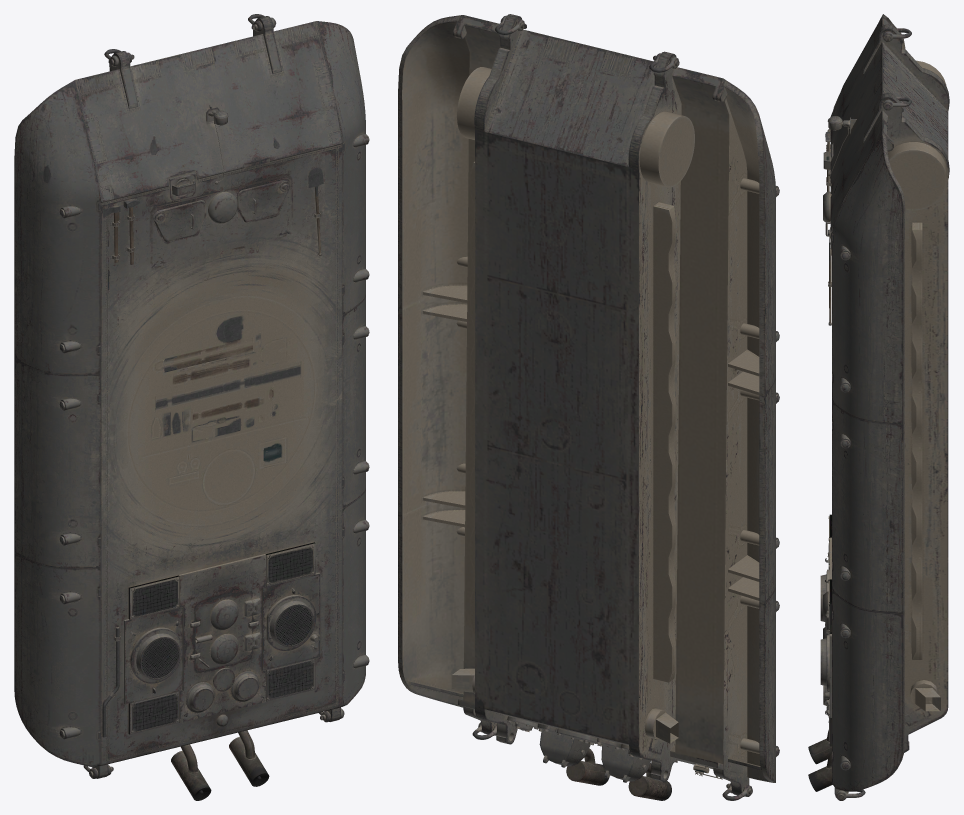
File: Hull.glb
3 renders of one model, left to right at view 1: azimuth 30°, elevation 25°; view 2: azimuth 150°, elevation 25°; view 3: azimuth 270°, elevation 25°, orthographic. The views are drawn at different scales.
Parts seen in each view (by area): view 1: set_0_group_0; view 2: set_0_group_0; view 3: set_0_group_0.
Boxes of the visible parts, <box> form: set_0_group_0: <box>14,14,369,800</box>; set_0_group_0: <box>398,14,779,800</box>; set_0_group_0: <box>808,14,949,800</box>.
Bounding box in the file's own units: 4.48 × 9.18 × 1.64.
Materials: 1 (1 with a texture image).
